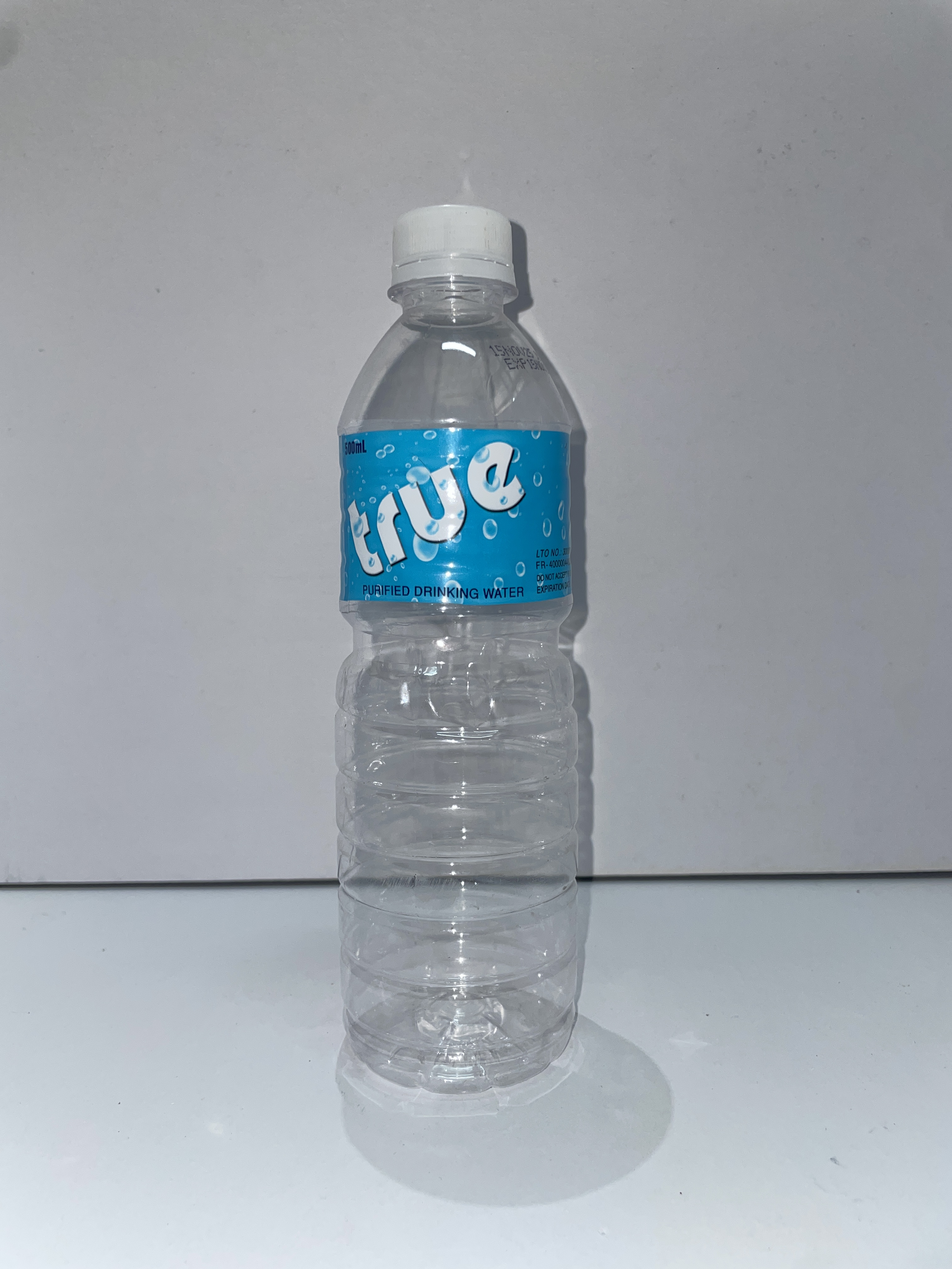True 500ml: (336, 206, 578, 1092)
